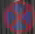No Stopping: (1, 0, 34, 32)
